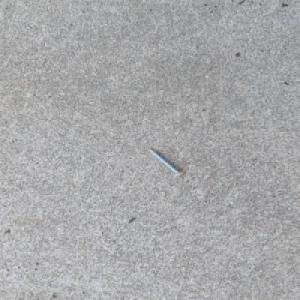Screw: (147, 148, 186, 177)
